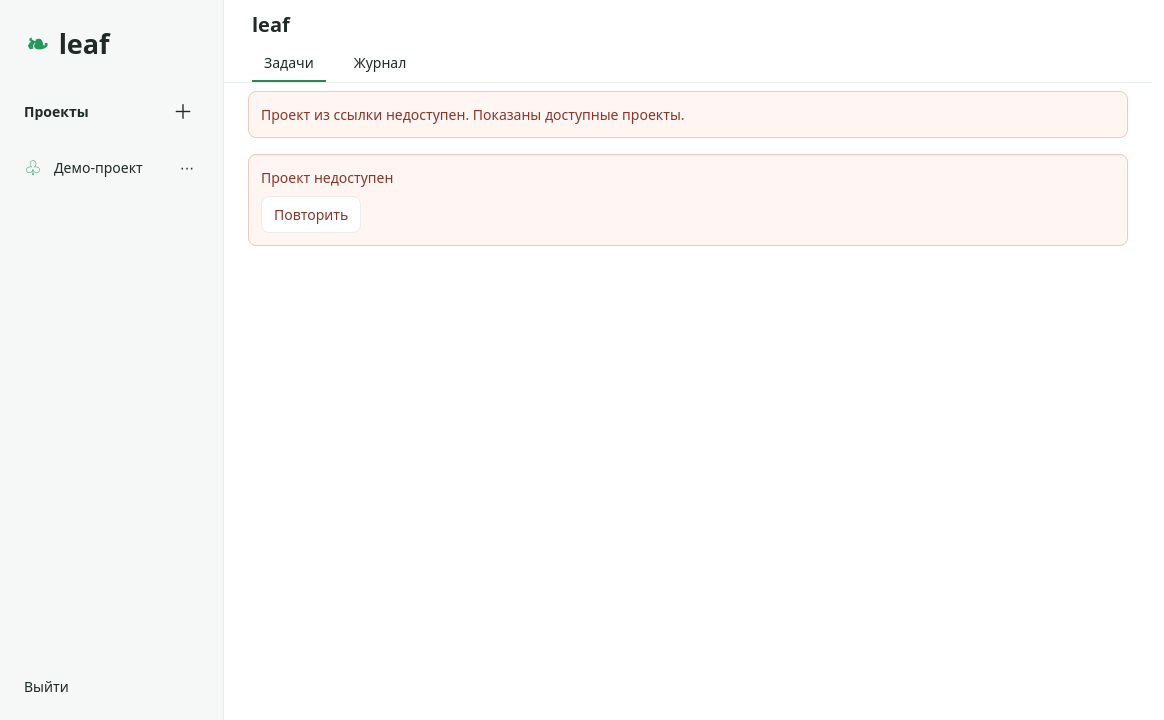
Test: unknown initial project stays unavailable and permits a safe explicit return to a known project
Expected: the text "Проект недоступен" is shown, [261,168,393,187]
Click the button "♧ Демо-проект" at (90, 168), box [12,140,167,194]
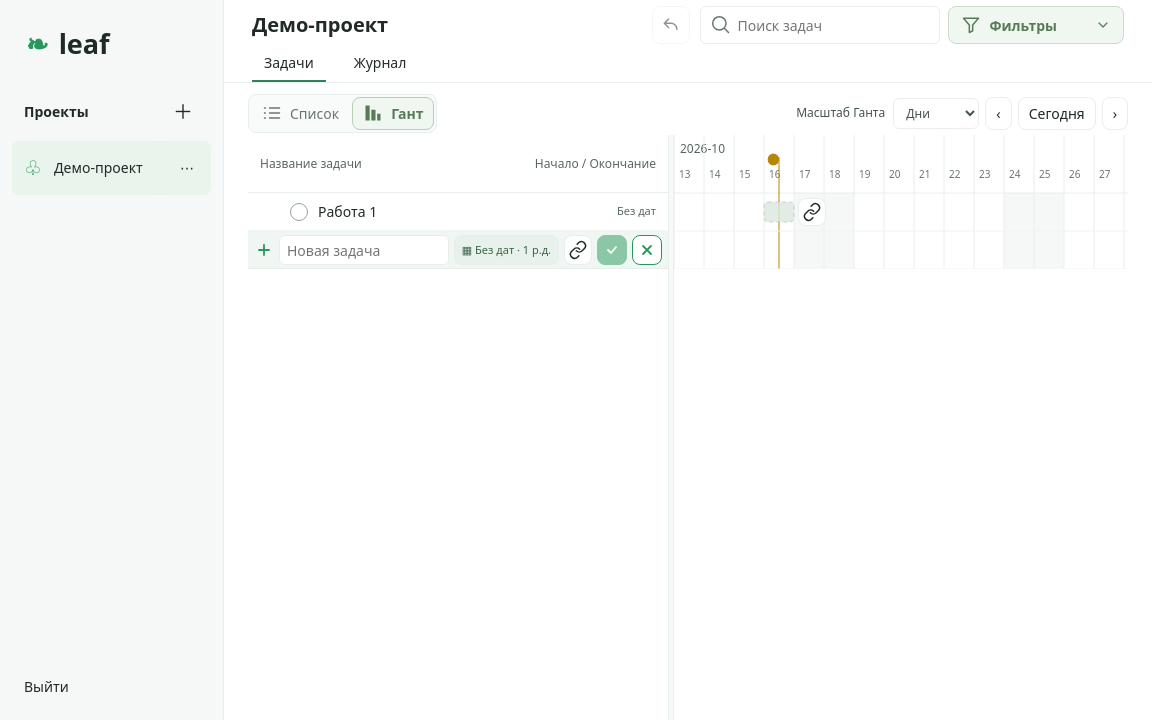
Expected: the heading "Демо-проект" is shown, [252,11,388,38]
